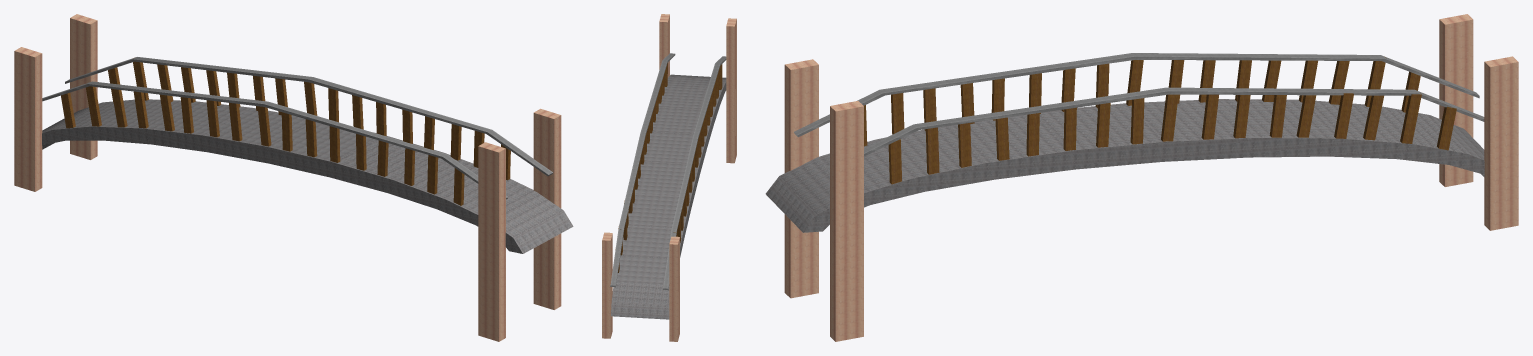
The model's file is Bridge.obj.
3 renders of one model, left to right at view 1: azimuth 30°, elevation 25°; view 2: azimuth 150°, elevation 25°; view 3: azimuth 270°, elevation 25°, orthographic. The views are drawn at different scales.
Parts seen in each view (by area): view 1: Bridge; view 2: Bridge; view 3: Bridge.
Boxes of the visible parts, left/top/right/bottom form: Bridge: left=14, top=14, right=573, bottom=341; Bridge: left=602, top=14, right=736, bottom=341; Bridge: left=765, top=14, right=1518, bottom=341.
Size of the model in its own units: 32.89 by 21.27 by 62.45.
